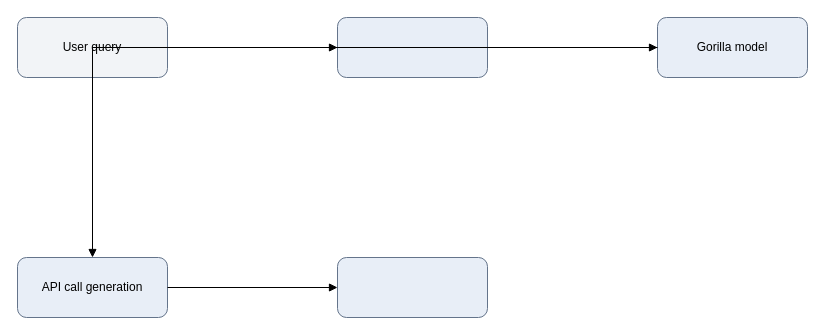
The diagram is 825 pixels wide and 335 high, and some of its shapes have lost their labels. Here are the shapes that lost their labels. From the top down, the centre of each, then its label:
At pixel 412 47: "API documentation retrieval".
At pixel 412 287: "Execution result".
